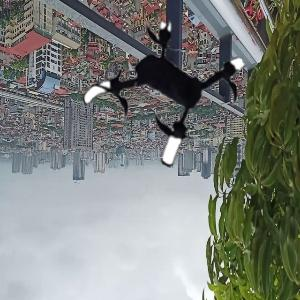drone: (81, 13, 250, 182)
